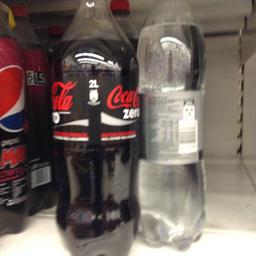soda: (49, 0, 136, 255), (135, 0, 207, 248)
